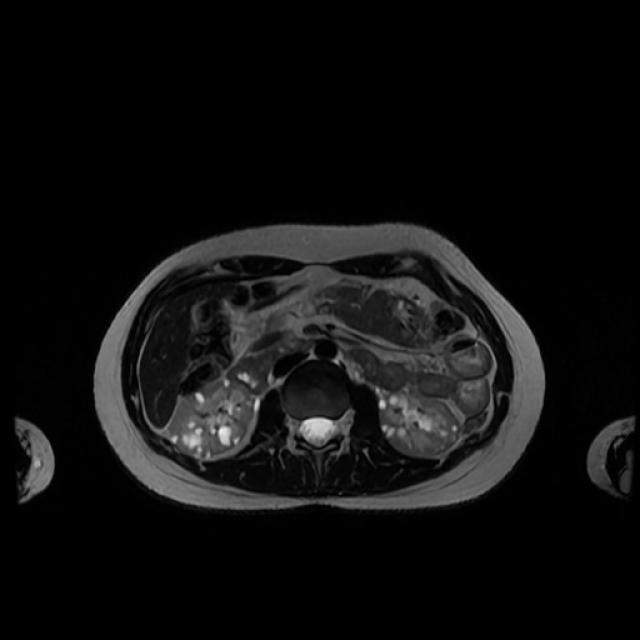sag: (168, 377, 257, 460)
sol: (378, 384, 463, 458)
